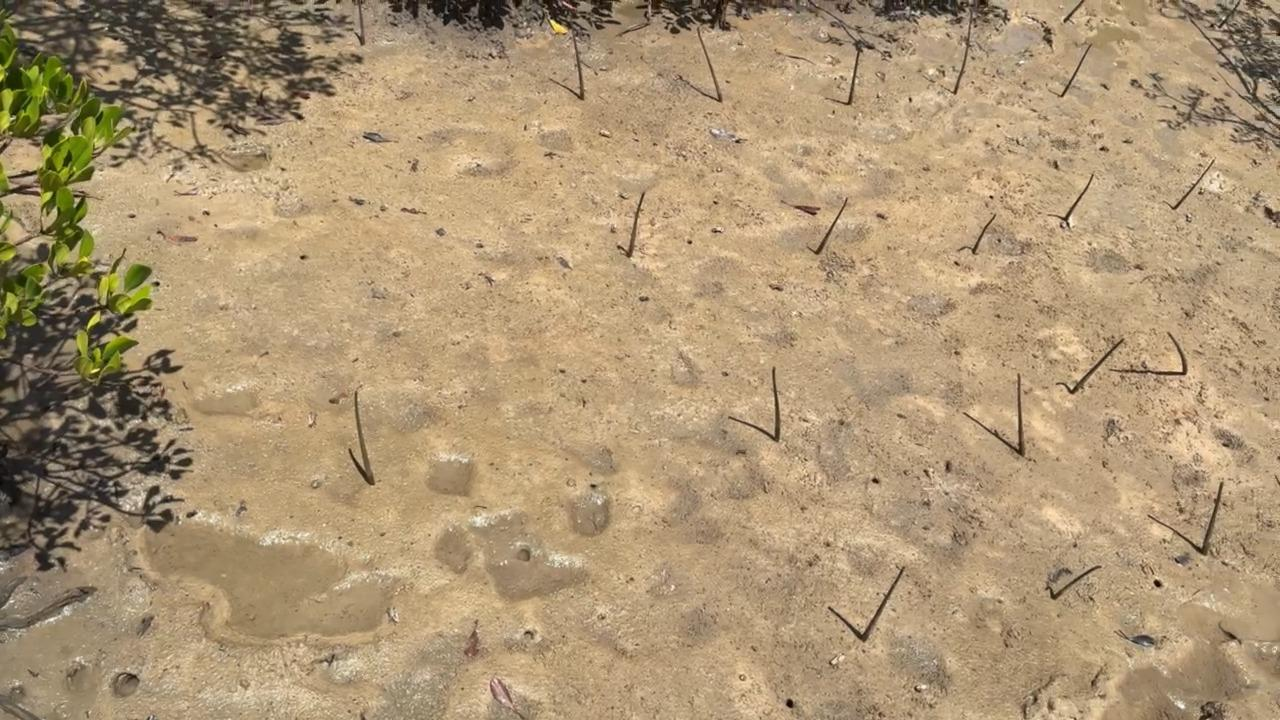Tree: (862, 566, 906, 642), (1070, 338, 1125, 393), (696, 28, 726, 102), (1173, 159, 1216, 209), (353, 389, 375, 484), (814, 196, 849, 255), (1052, 564, 1101, 599), (954, 13, 974, 95), (1062, 43, 1092, 97), (1203, 483, 1223, 556), (1064, 173, 1094, 221), (626, 192, 645, 258), (970, 215, 996, 253), (571, 30, 585, 99), (1167, 332, 1189, 373), (772, 366, 782, 442), (1018, 373, 1027, 455), (849, 48, 861, 104), (1220, 0, 1241, 27), (356, 0, 367, 45), (1065, 0, 1083, 22)
